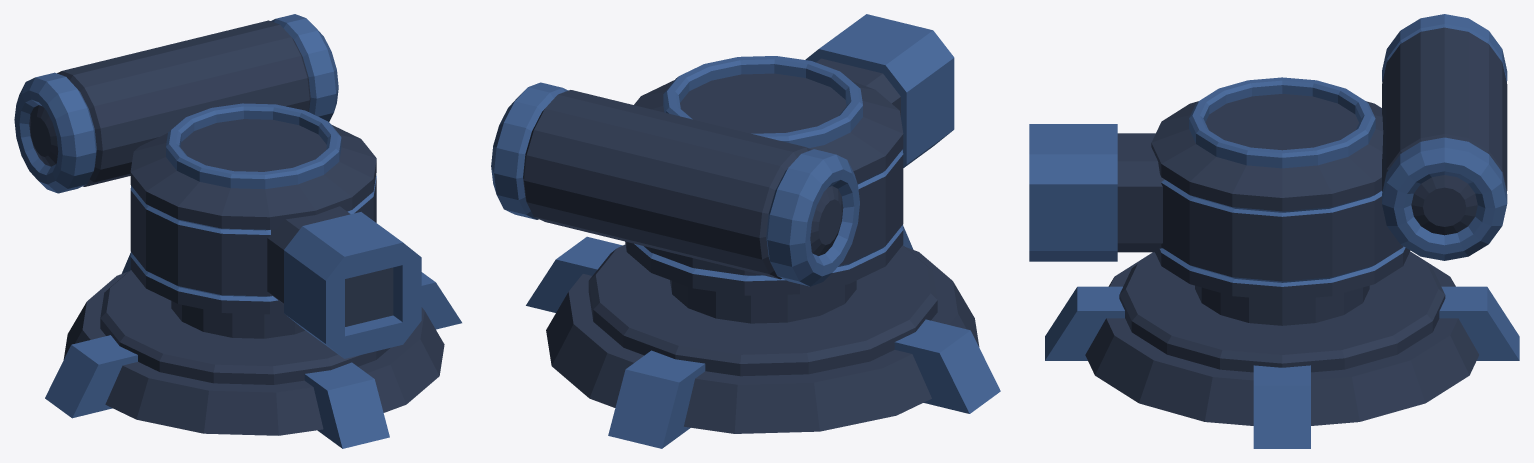
File: Cryosis.fbx
3 renders of one model, left to right at view 1: azimuth 30°, elevation 25°; view 2: azimuth 150°, elevation 25°; view 3: azimuth 270°, elevation 25°, orthographic. The views are drawn at different scales.
Visible parts, largest first — view 1: Cylinder.022, Cylinder.021; view 2: Cylinder.022, Cylinder.021; view 3: Cylinder.022, Cylinder.021.
Part boxes in pixels (x1,y1,x2,y2): Cylinder.022: (14, 14, 421, 358); Cylinder.021: (45, 252, 461, 448); Cylinder.022: (491, 14, 954, 295); Cylinder.021: (526, 225, 1000, 448); Cylinder.022: (1029, 14, 1507, 300); Cylinder.021: (1045, 251, 1519, 448).
Size of the model in its own units: 93.74 by 58.37 by 96.82.
